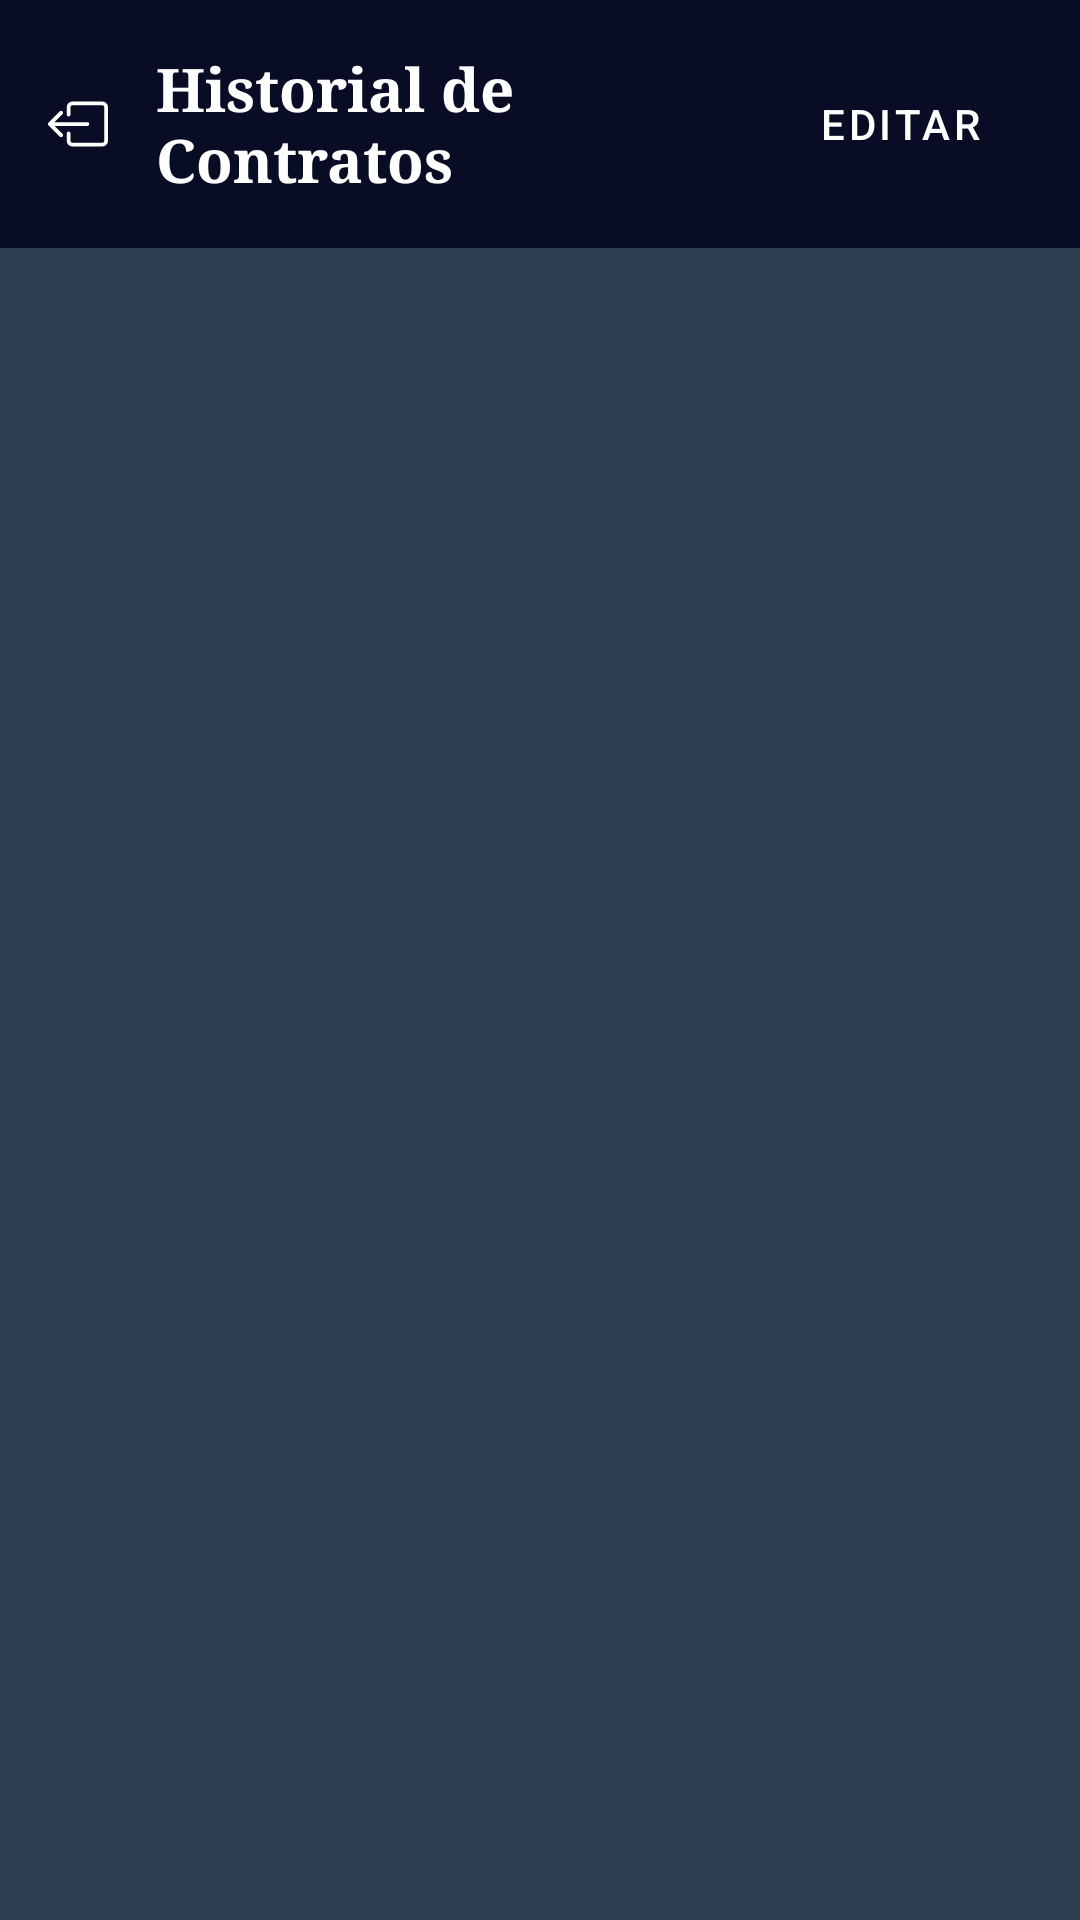

Locate icon controls on the screen. Image size 1080x1920, boxes as [x1=x1, y1=y1, x2=x2, y2=y2].
exit: [x1=48, y1=101, x2=108, y2=147]
